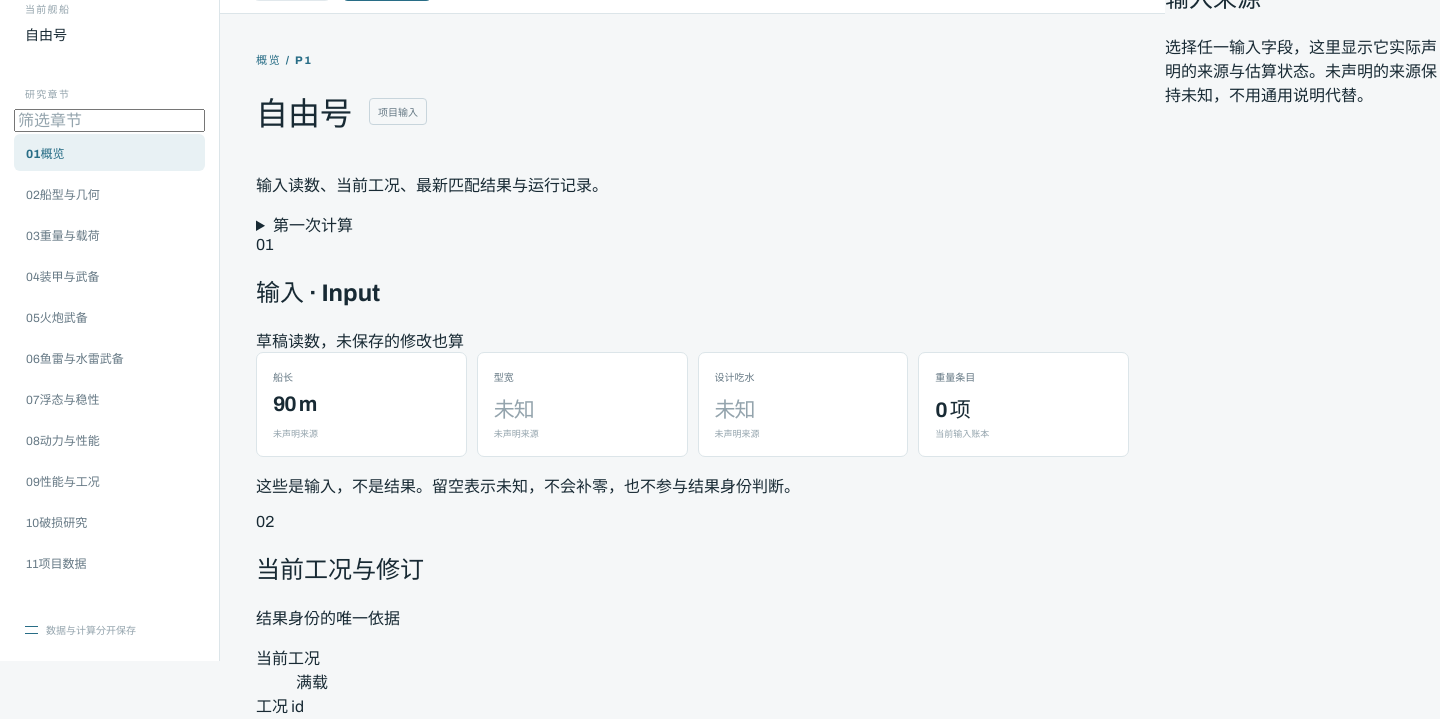
deck freeboard form › shows segment length from a run, or a dash when no run exists
The width and height of the screenshot is (1440, 719).
Click the button "07浮态与稳性": x=110, y=398 [14,380,205,417]
(page scrolled)
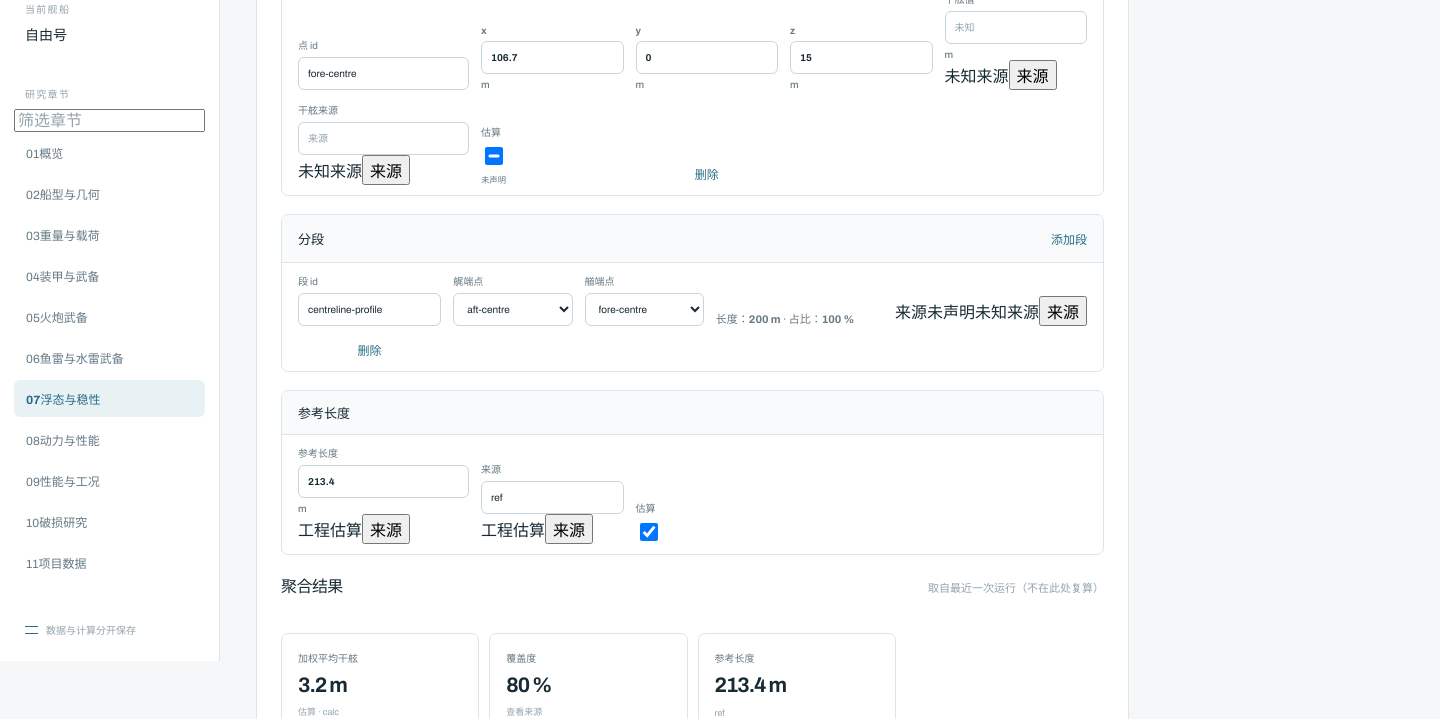
expect the text "200 m" is shown: met, box [749,313,780,325]
expect the text "100 %" is shown: met, box [822,313,854,325]
